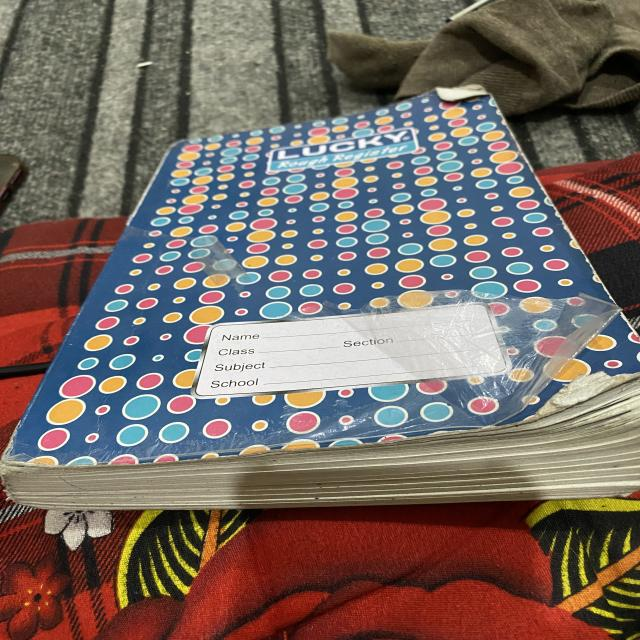electronic: (2, 84, 640, 508)
